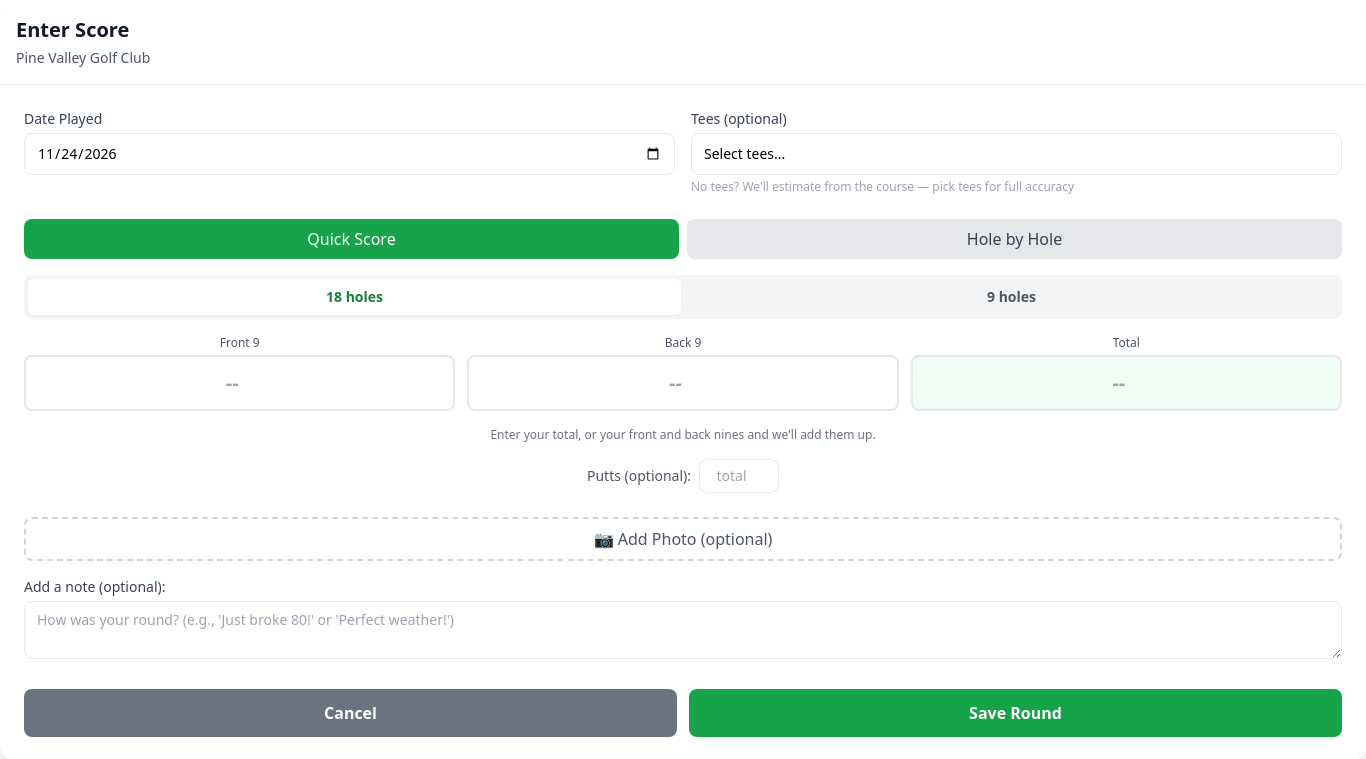
Test: shows the database message for a refused score (23514)
Type "88" into the number field labelled "Total" at (1126, 383), box [911,355,1342,411]
(page scrolled)
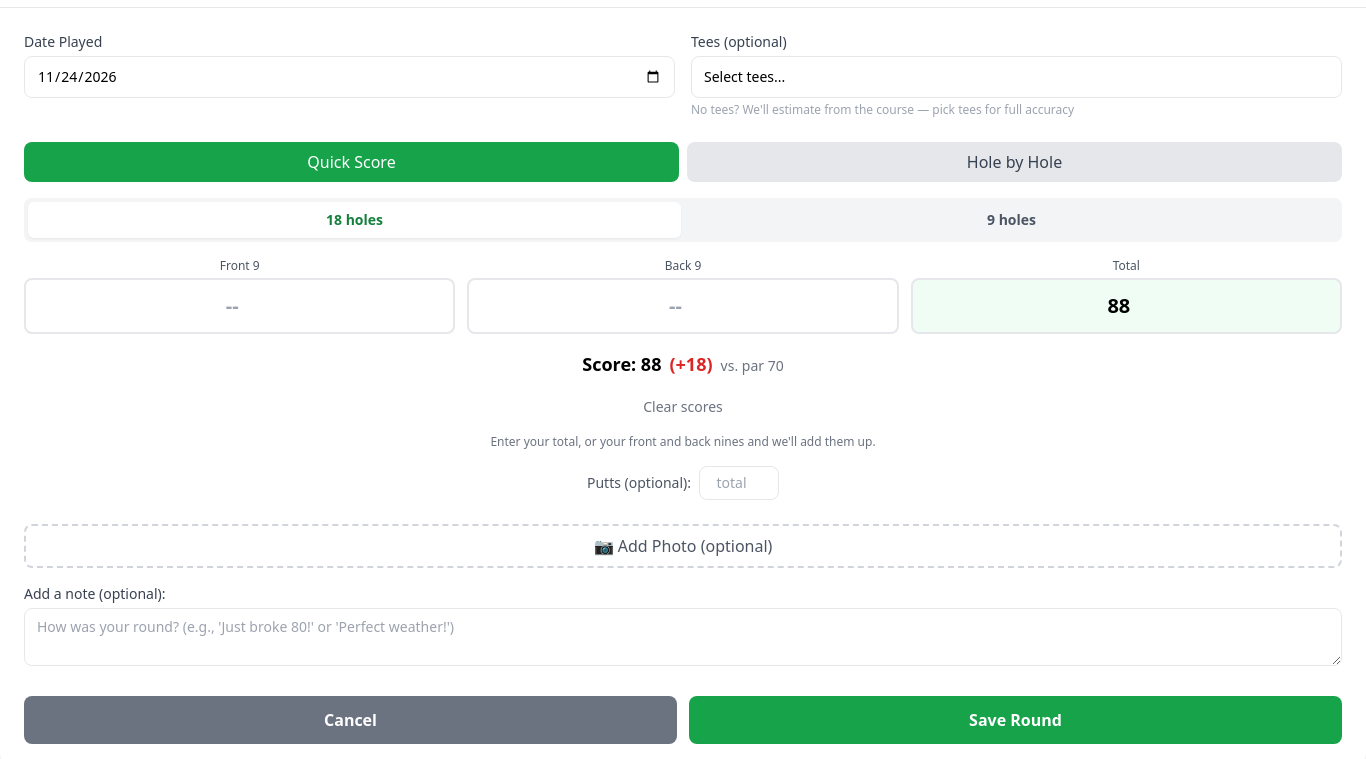
Click the button "Save Round" at (1016, 720), box [689,696,1342,744]
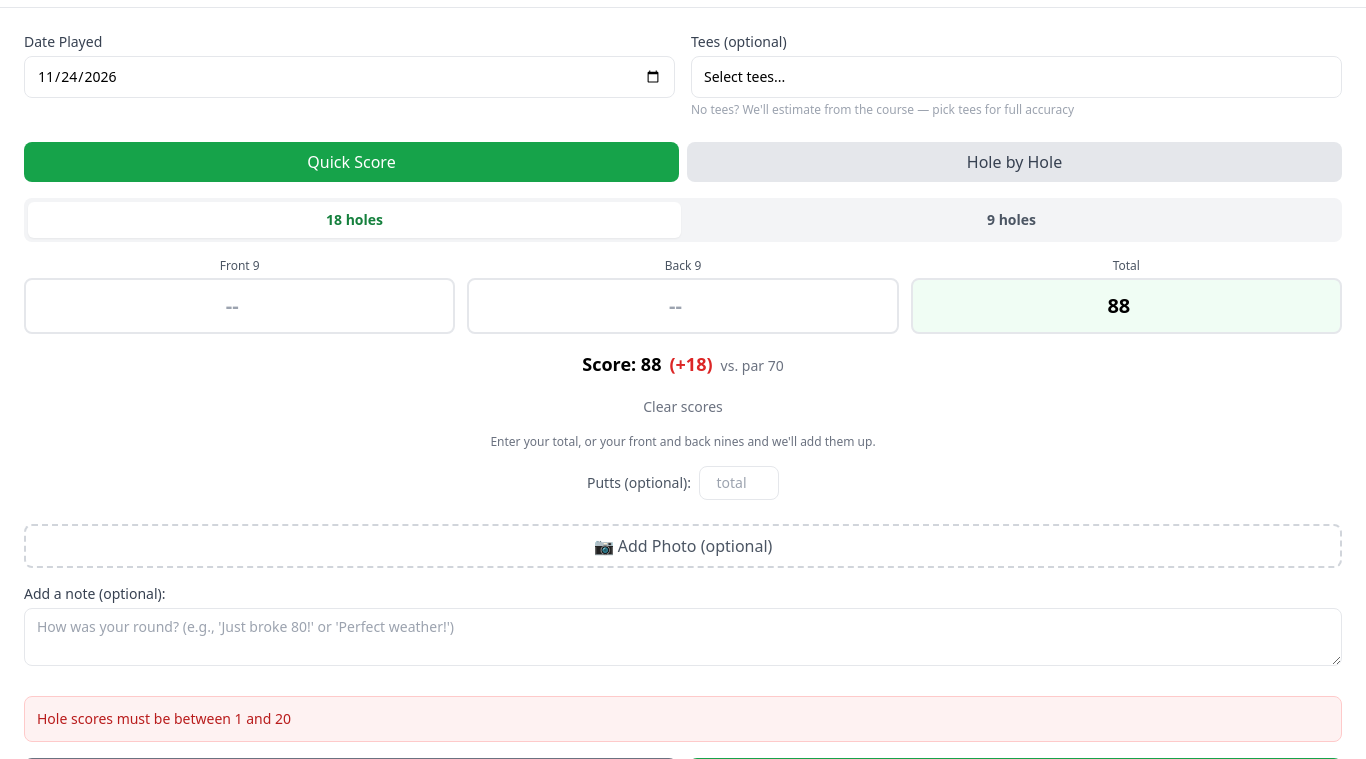
Expected: the message reads "Hole scores must be between 1 and 20", [37,709,291,728]
